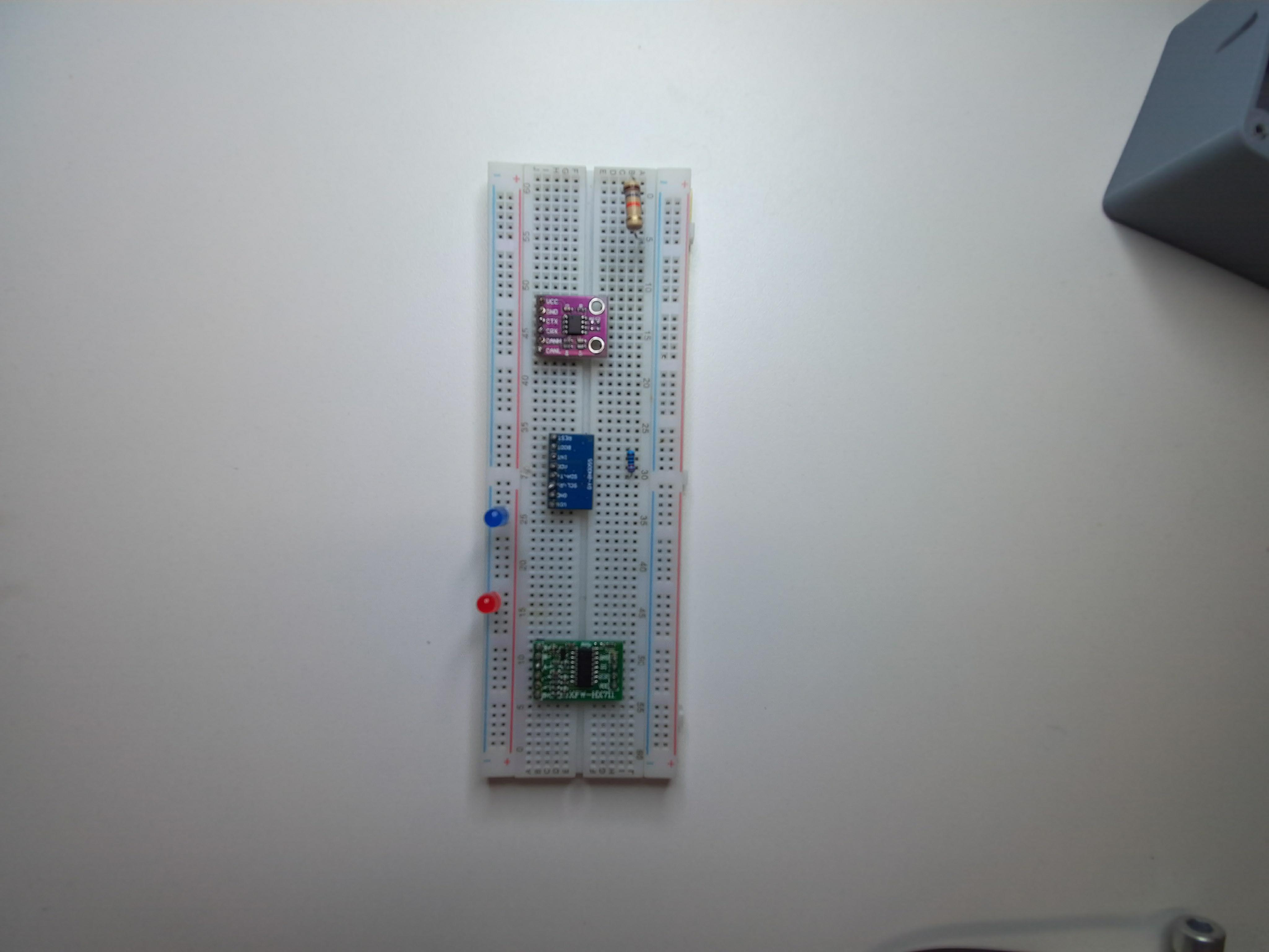base: (479, 159, 695, 792)
blue-board: (545, 430, 598, 517)
blue-led: (480, 501, 510, 535)
green-board: (528, 639, 626, 705)
purple-board: (534, 293, 610, 364)
red-led: (476, 593, 503, 613)
resistor-big: (623, 180, 646, 231)
resistor-small: (623, 447, 640, 478)
